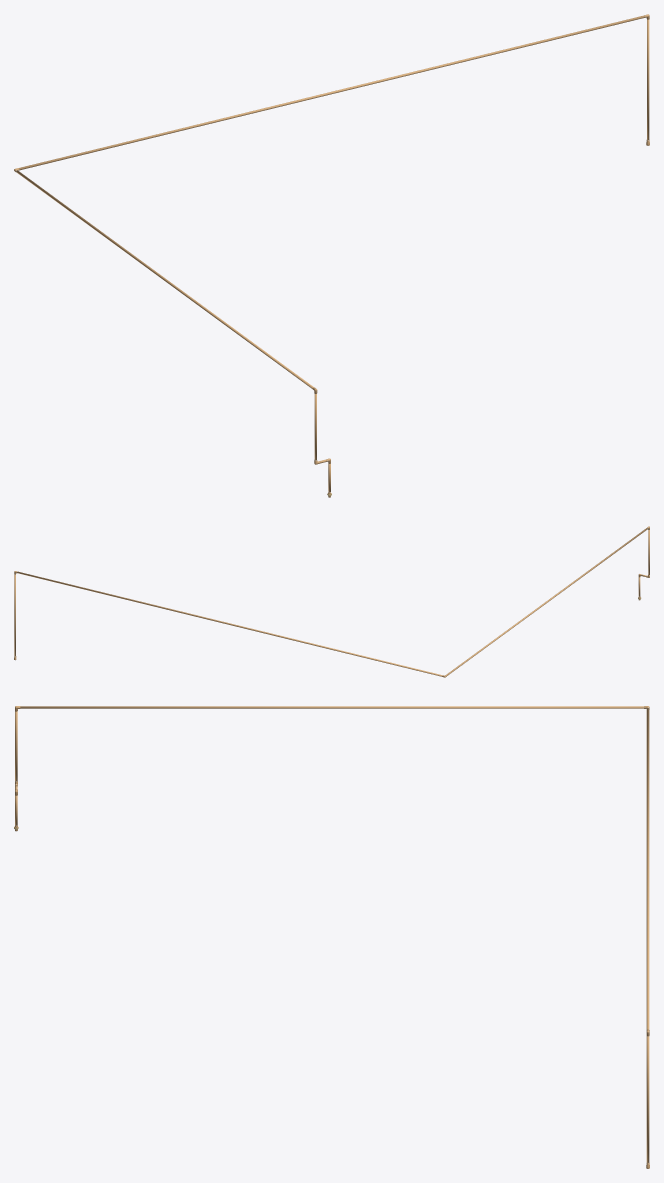
The model's file is slab_pipes_supply__water-well_and_softener-yes_and_plumbing-copper.glb.
3 renders of one model, top to bottom at view 1: azimuth 30°, elevation 25°; view 2: azimuth 150°, elevation 25°; view 3: azimuth 270°, elevation 25°, orthographic. The views are drawn at different scales.
Parts seen in each view (by area): view 1: pipe_supply_well_to_softener__copper; view 2: pipe_supply_well_to_softener__copper; view 3: pipe_supply_well_to_softener__copper.
Boxes of the visible parts, <box> form: pipe_supply_well_to_softener__copper: <box>16,15,649,492</box>; pipe_supply_well_to_softener__copper: <box>14,527,649,676</box>; pipe_supply_well_to_softener__copper: <box>15,706,649,1162</box>.
Size of the model in its own units: 6.45 by 1.27 by 5.31.
